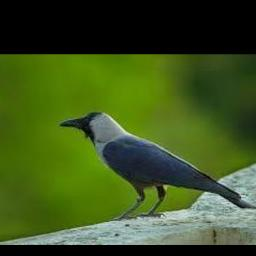Crow: (58, 112, 255, 219)
